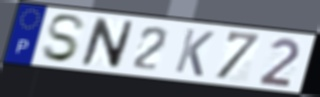2: (258, 36, 303, 89), (129, 25, 169, 72)
7: (213, 29, 263, 82)
K: (172, 27, 217, 79)
N: (78, 16, 137, 71)
S: (39, 13, 88, 65)
